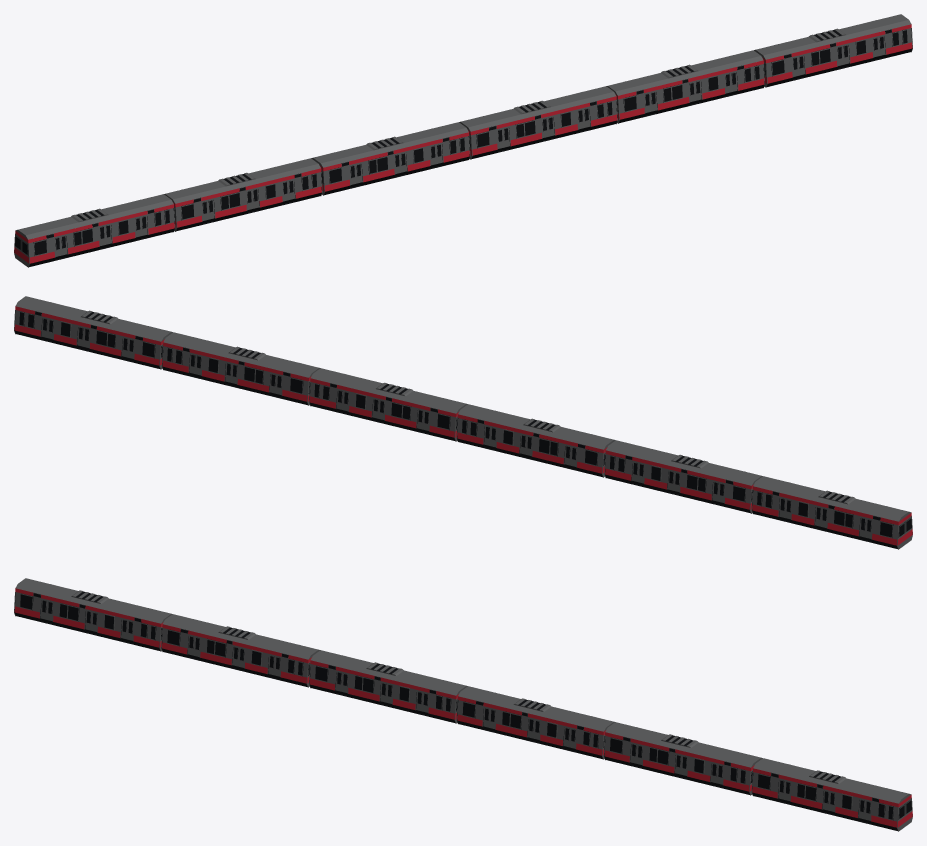
File: trainleft.glb
The picture shows the model from 3 angles, top to bottom: view 1: azimuth 30°, elevation 25°; view 2: azimuth 150°, elevation 25°; view 3: azimuth 330°, elevation 25°; orthographic projection.
Parts seen in each view (by area): view 1: Cube.014; view 2: Cube.014; view 3: Cube.014.
Boxes of the visible parts, x1,y1,x2,y2 form: Cube.014: [14, 14, 912, 267]; Cube.014: [14, 296, 912, 549]; Cube.014: [14, 578, 912, 831].
Size of the model in its own units: 133 by 4.57 by 4.07.
